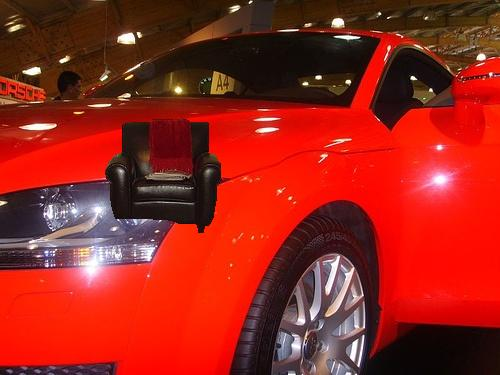tampered: (106, 119, 221, 233)
